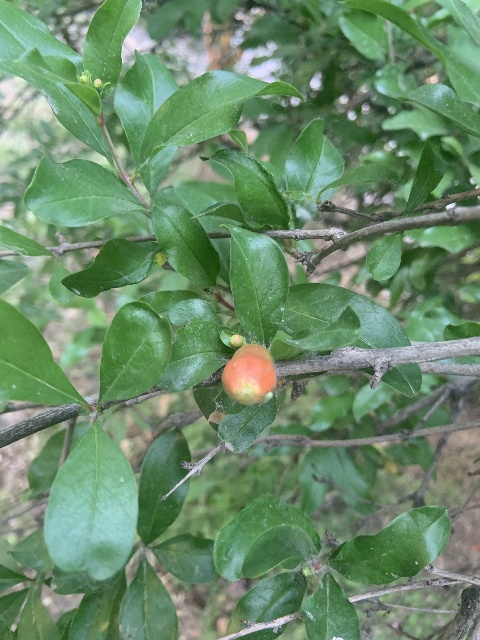bud: (222, 344, 276, 405), (229, 334, 244, 347)
